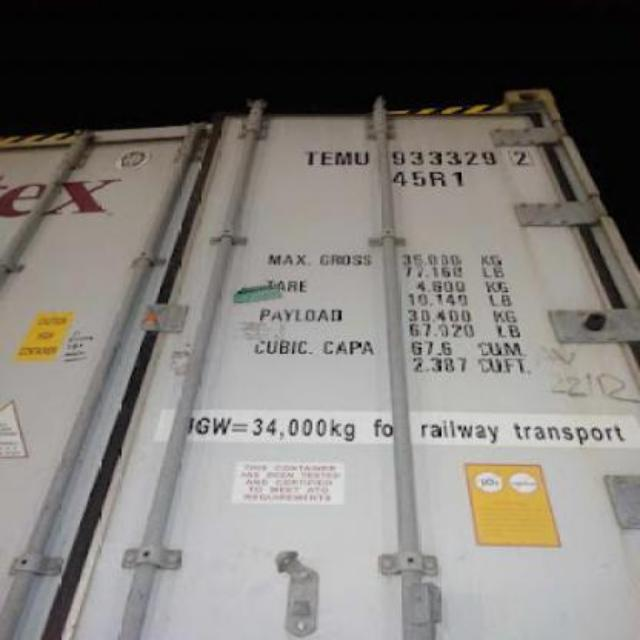2: (512, 150, 530, 166), (464, 150, 480, 166)
3: (431, 149, 444, 167), (448, 150, 462, 166), (410, 152, 426, 164)
9: (392, 150, 406, 166), (484, 150, 496, 166)
E: (318, 149, 334, 167)
M: (334, 150, 354, 166)
T: (302, 149, 320, 165)
U: (356, 152, 369, 164)
